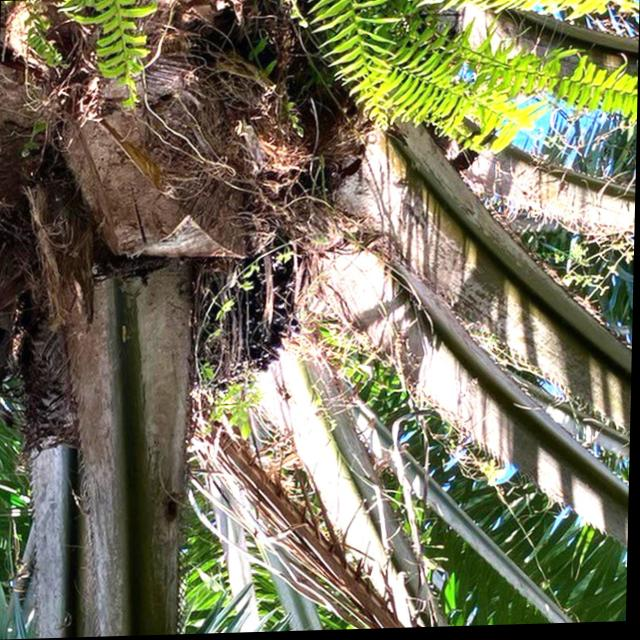almost: (200, 240, 323, 393)
